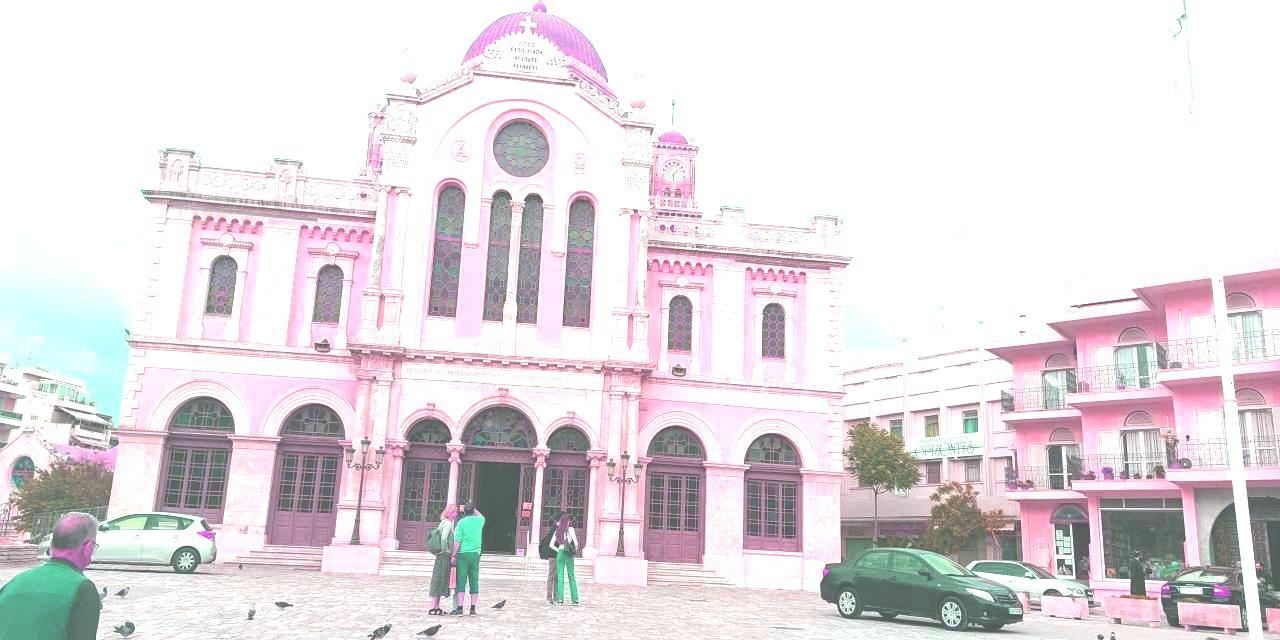Agios Minas: (96, 1, 853, 592)
